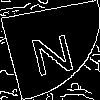N: (25, 24, 78, 76)
